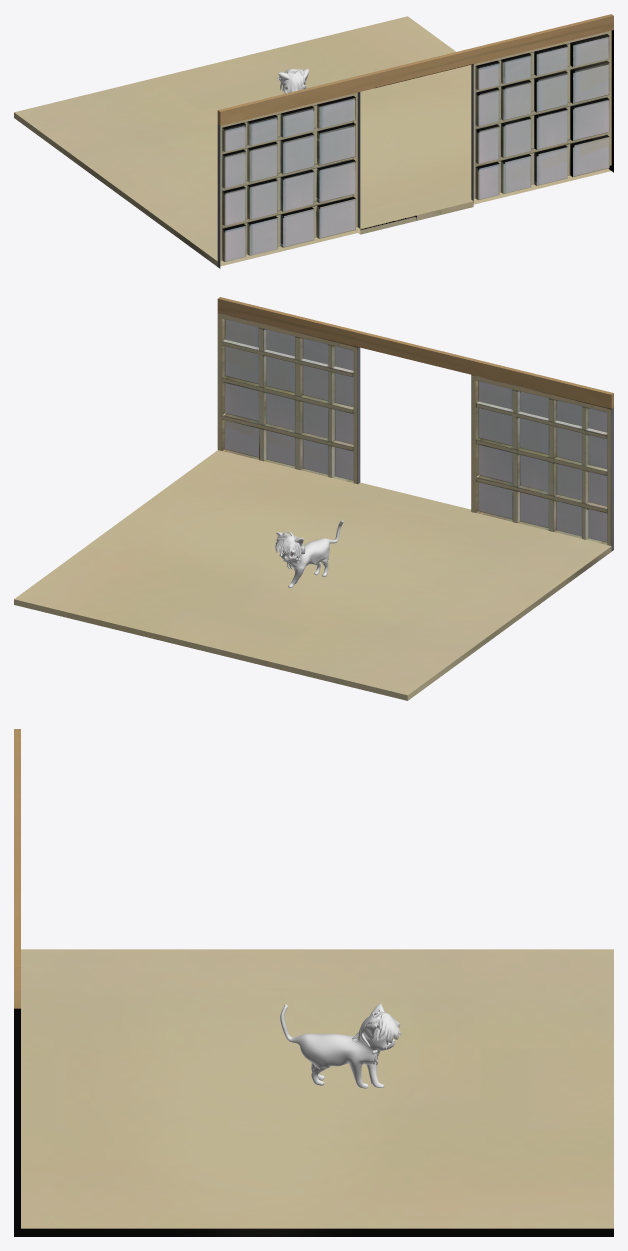
Rendered from ShampooCat.fbx.
The picture shows the model from 3 angles, top to bottom: view 1: azimuth 30°, elevation 25°; view 2: azimuth 150°, elevation 25°; view 3: azimuth 270°, elevation 25°; orthographic projection. The views are drawn at different scales.
Visible parts, largest first — view 1: environement, Hair; view 2: environement, CatBody; view 3: environement, CatBody, Hair.
Part boxes in pixels (<box>): environement: <box>14,14,613,268</box>; Hair: <box>277,69,306,93</box>; environement: <box>14,297,613,700</box>; CatBody: <box>279,520,343,587</box>; environement: <box>14,729,613,1236</box>; CatBody: <box>280,1004,394,1088</box>; Hair: <box>352,1009,401,1046</box>.
Size of the model in its own units: 2822 by 1075 by 2560.
4 materials, 2 textured.
